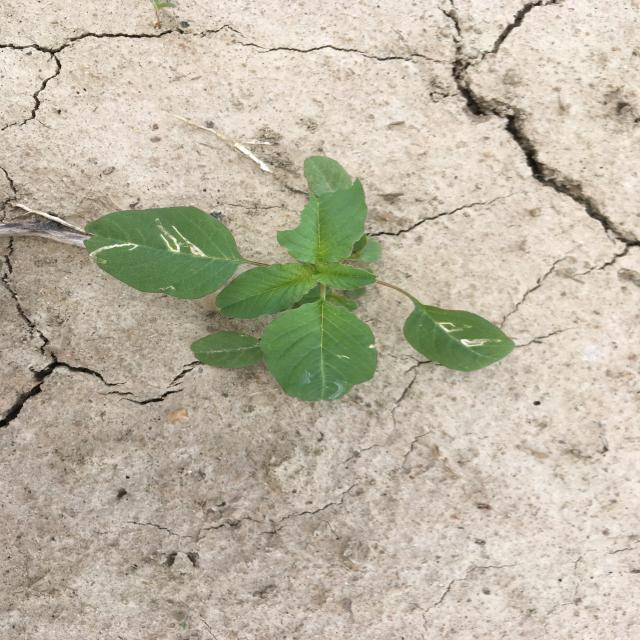PalmerAmaranth: (83, 156, 516, 402)
